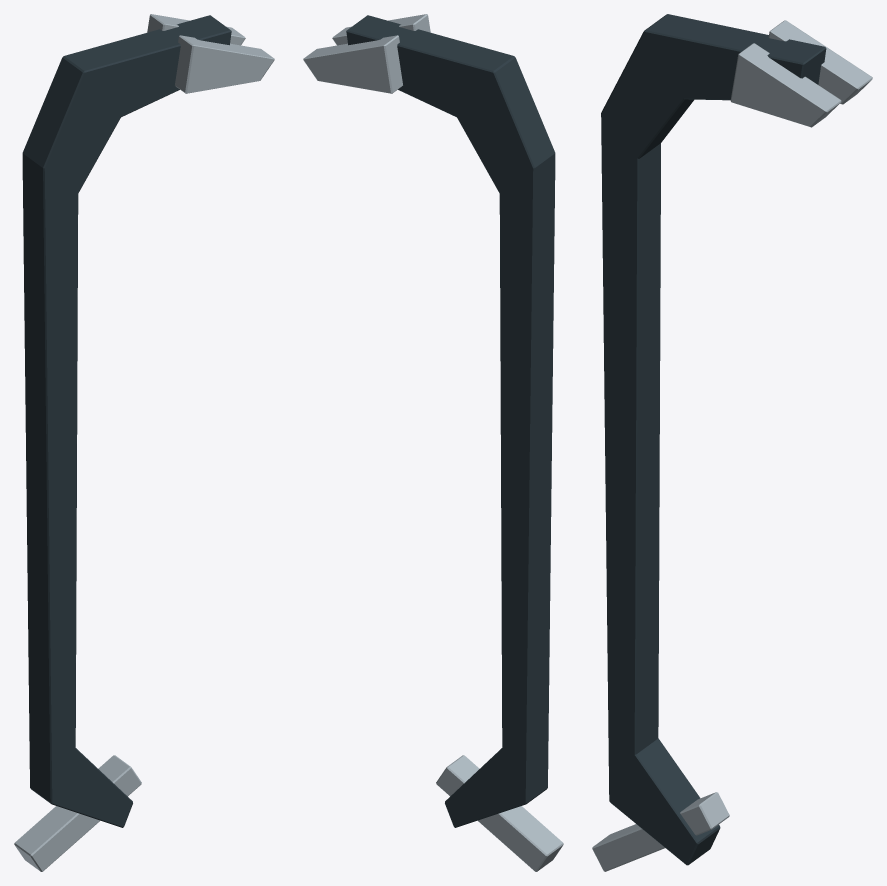
File: b06_flat_nail_pull_bar.glb
3 views of the same model, side by side, from view 1: azimuth 30°, elevation 25°; view 2: azimuth 150°, elevation 25°; view 3: azimuth 330°, elevation 25° (orthographic). The views are drawn at different scales.
Parts seen in each view (by area): view 1: b06_flat_nail_pull_bar; view 2: b06_flat_nail_pull_bar; view 3: b06_flat_nail_pull_bar.
Boxes of the visible parts, left/top/right/bottom form: b06_flat_nail_pull_bar: left=14, top=14, right=274, bottom=871; b06_flat_nail_pull_bar: left=303, top=14, right=563, bottom=871; b06_flat_nail_pull_bar: left=592, top=14, right=872, bottom=871.
Bounding box in the file's own units: 0.0919 × 0.3047 × 0.03.
